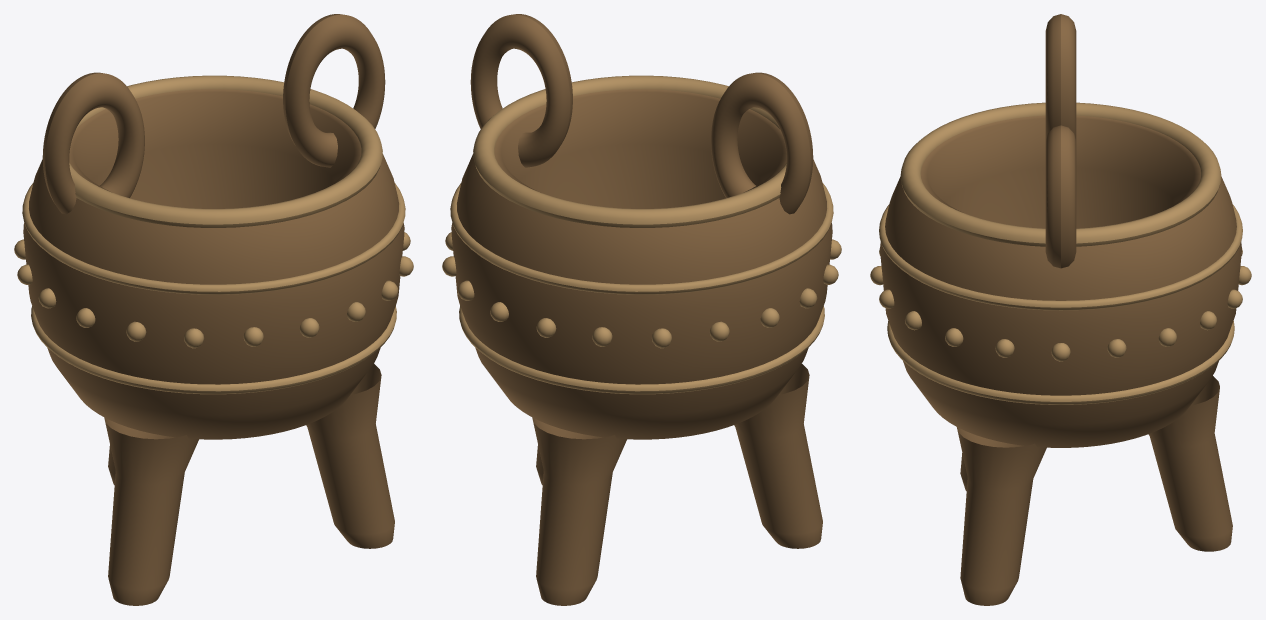
File: p3-demo-ding.glb
3 views of the same model, side by side, from view 1: azimuth 30°, elevation 25°; view 2: azimuth 150°, elevation 25°; view 3: azimuth 270°, elevation 25° (orthographic). The views are drawn at different scales.
Visible parts, largest first — view 1: 鼎身, 鼎足-3, 纹饰-口沿, 鼎足-2, 鼎耳-右, 鼎耳-左, 纹饰-上环, 纹饰-下环; view 2: 鼎身, 鼎足-1, 纹饰-口沿, 鼎足-3, 鼎耳-右, 鼎耳-左, 纹饰-上环, 纹饰-下环; view 3: 鼎身, 纹饰-口沿, 鼎足-2, 鼎足-1, 纹饰-上环, 鼎耳-右, 纹饰-下环, 鼎耳-左.
Part boxes in pixels (<box>): 鼎身: <box>23,89,404,439</box>; 鼎足-3: <box>104,415,198,605</box>; 纹饰-口沿: <box>69,75,382,227</box>; 鼎足-2: <box>306,364,394,548</box>; 鼎耳-右: <box>283,14,385,167</box>; 鼎耳-左: <box>42,72,144,214</box>; 纹饰-上环: <box>22,183,405,294</box>; 纹饰-下环: <box>31,306,396,394</box>; 鼎身: <box>451,89,832,439</box>; 鼎足-1: <box>532,415,626,605</box>; 纹饰-口沿: <box>473,75,786,227</box>; 鼎足-3: <box>734,364,822,548</box>; 鼎耳-右: <box>470,14,572,167</box>; 鼎耳-左: <box>711,72,813,214</box>; 纹饰-上环: <box>450,183,833,294</box>; 纹饰-下环: <box>459,306,824,394</box>; 鼎身: <box>880,115,1241,447</box>; 纹饰-口沿: <box>900,102,1221,246</box>; 鼎足-2: <box>956,425,1046,605</box>; 鼎足-1: <box>1148,376,1232,551</box>; 纹饰-上环: <box>879,204,1242,310</box>; 鼎耳-右: <box>1045,125,1076,268</box>; 纹饰-下环: <box>887,321,1234,404</box>; 鼎耳-左: <box>1045,14,1076,141</box>.
Size of the model in its own units: 2.09 by 2.83 by 2.09.
